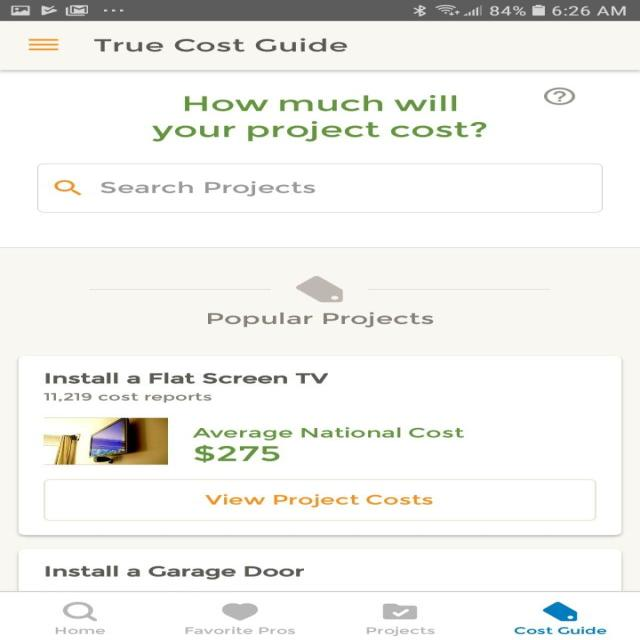EditText: (36, 163, 602, 213)
Icon: (295, 276, 343, 302), (62, 601, 98, 621), (541, 601, 577, 621), (221, 602, 258, 621), (382, 602, 417, 620), (543, 87, 575, 105), (54, 180, 83, 195), (27, 38, 59, 51)
Image: (43, 416, 168, 464)
Text: (151, 94, 486, 142), (192, 426, 464, 463), (207, 311, 433, 328), (94, 37, 348, 52), (44, 565, 304, 579), (44, 372, 328, 384), (100, 181, 316, 196), (42, 392, 212, 403), (185, 626, 295, 634), (365, 625, 435, 636), (512, 626, 606, 634), (55, 626, 105, 634)
TextButton: (42, 478, 596, 520)
